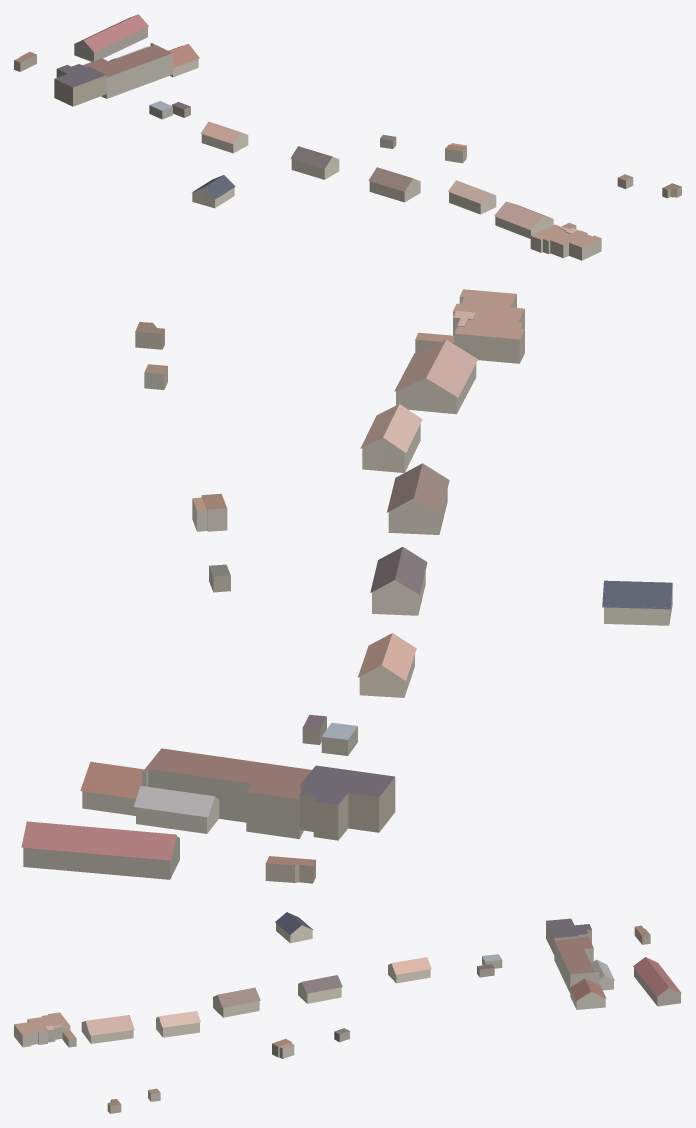
3 views of the same model, one above another, from view 1: azimuth 30°, elevation 25°; view 2: azimuth 150°, elevation 25°; view 3: azimuth 270°, elevation 25° (orthographic). The views are drawn at different scales.
Visible parts, largest first — view 1: tuile; view 2: tuile; view 3: tuile.
Boxes of the visible parts, x1,y1,x2,y2 form: tuile: [14, 14, 681, 260]; tuile: [21, 289, 672, 883]; tuile: [14, 912, 681, 1113].
Size of the model in its own units: 167 by 13.37 by 268.
